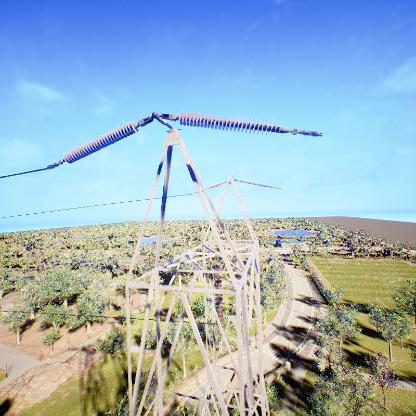insulator: (62, 119, 139, 166), (177, 110, 289, 140), (213, 266, 224, 323)
